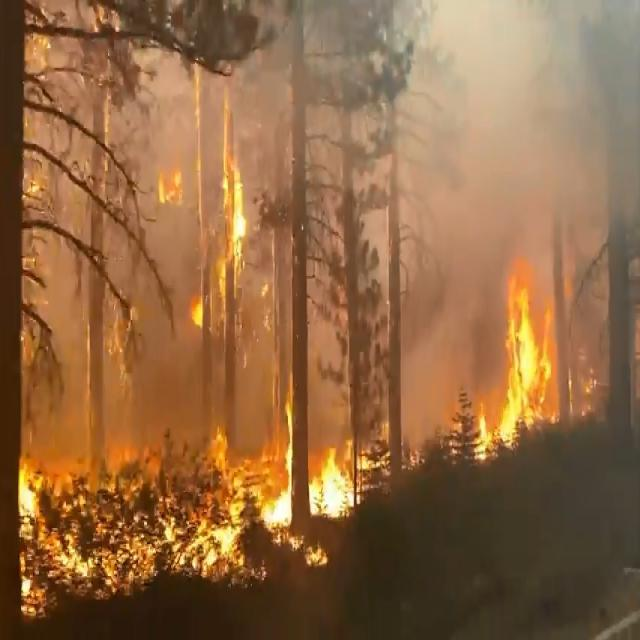Fire: (15, 137, 370, 618), (459, 257, 570, 462)
